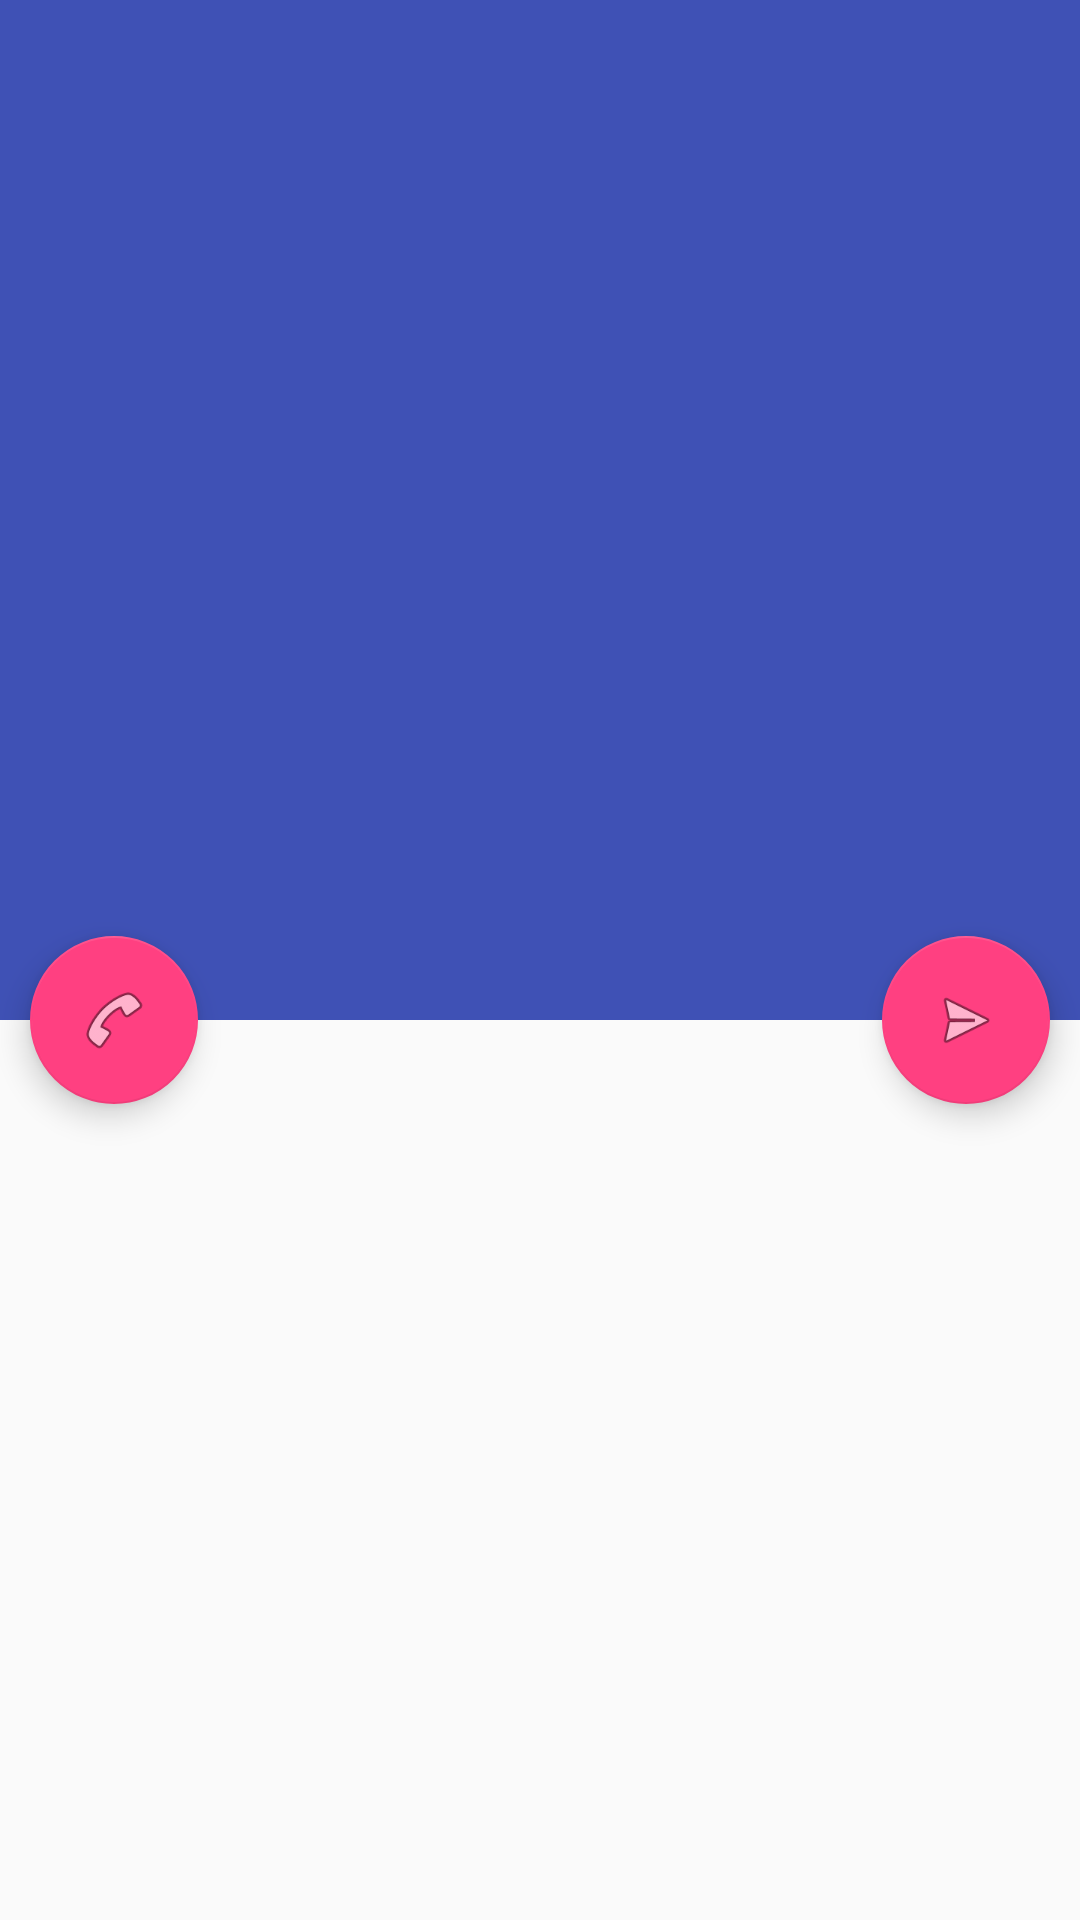

Icons on this 1080w x 1920h Android screen, each with the point to tap as (x=x, y=y):
call: (x=114, y=1020)
send: (x=966, y=1020)
